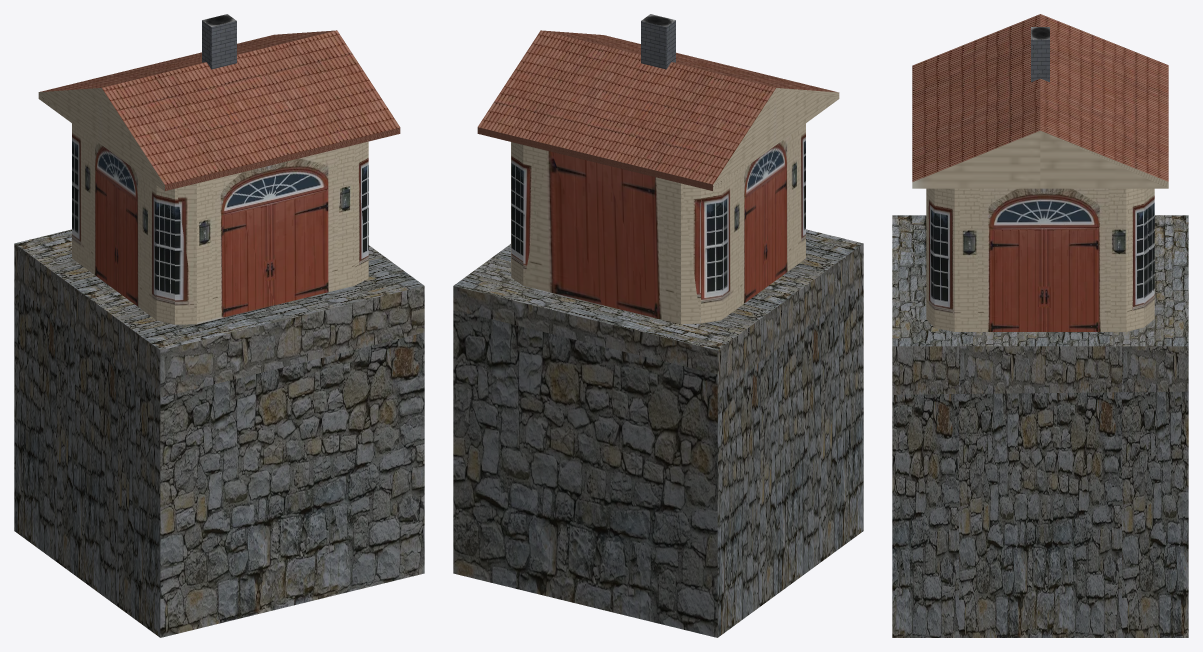
The model's file is blacksmith.glb.
3 views of the same model, side by side, from view 1: azimuth 30°, elevation 25°; view 2: azimuth 150°, elevation 25°; view 3: azimuth 270°, elevation 25° (orthographic).
Parts seen in each view (by area): view 1: Cube.002, Cube, Cube.001, Cube.003; view 2: Cube.002, Cube, Cube.001, Cube.003; view 3: Cube.002, Cube, Cube.001, Cube.003.
Part boxes in pixels (x1,y1,x2,y2): Cube.002: (14, 229, 424, 637); Cube: (38, 88, 368, 324); Cube.001: (40, 30, 400, 190); Cube.003: (202, 14, 236, 69); Cube.002: (453, 229, 863, 637); Cube: (511, 88, 839, 324); Cube.001: (477, 30, 837, 190); Cube.003: (641, 14, 675, 69); Cube.002: (892, 215, 1188, 637); Cube: (912, 130, 1168, 331); Cube.001: (912, 14, 1168, 181); Cube.003: (1031, 27, 1049, 82).
Size of the model in its own units: 1.92 by 3.7 by 1.84.
Materials: 5 (5 with a texture image).
